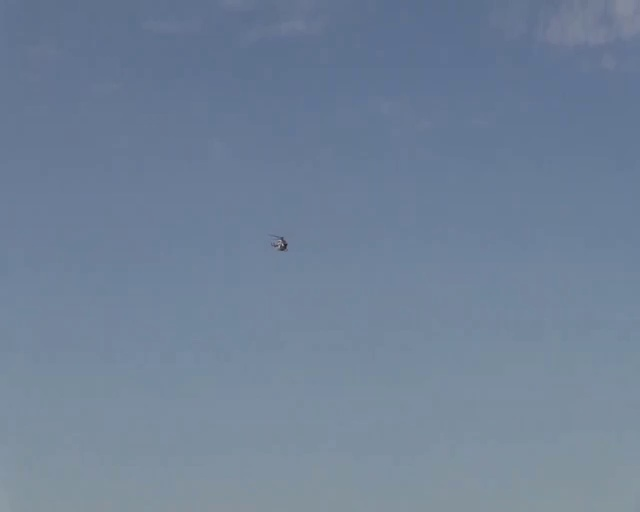HELICOPTER: (268, 233, 287, 251)
